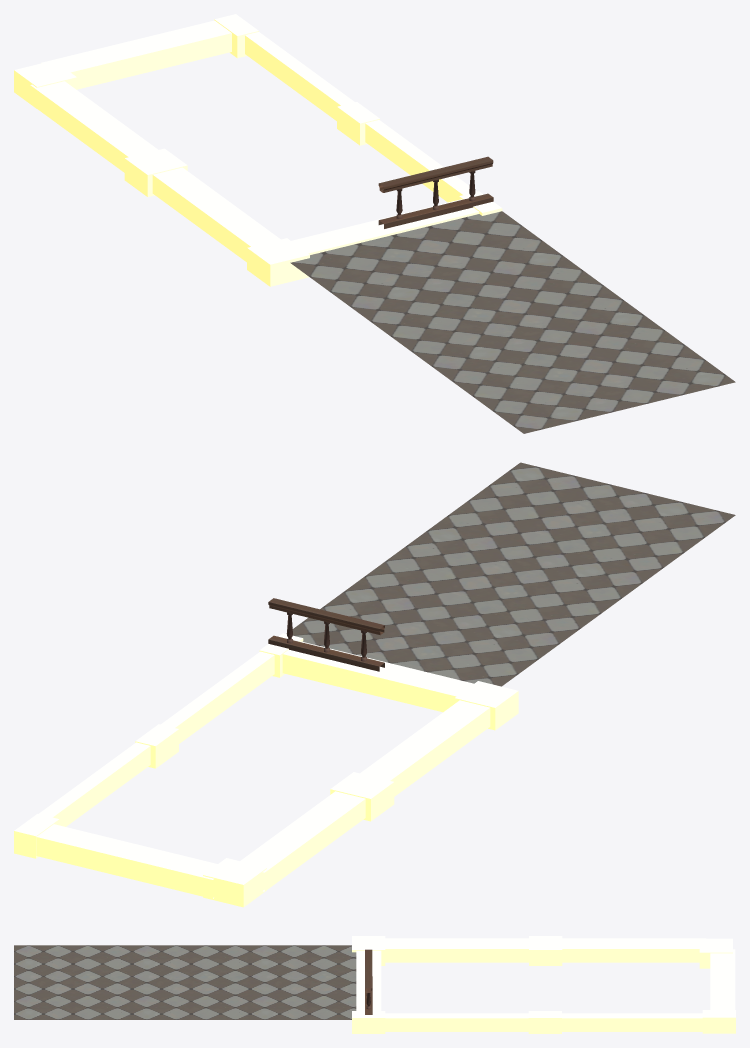
Rendered from Homeworld_Interior_Md_Room_O_Floor_01_Vo.fbx.
The picture shows the model from 3 angles, top to bottom: view 1: azimuth 30°, elevation 25°; view 2: azimuth 150°, elevation 25°; view 3: azimuth 270°, elevation 25°; orthographic projection. The views are drawn at different scales.
Parts seen in each view (by area): view 1: Homeworld_Interior_Md_Room_O_Floor_01_Vo; view 2: Homeworld_Interior_Md_Room_O_Floor_01_Vo; view 3: Homeworld_Interior_Md_Room_O_Floor_01_Vo.
Part boxes in pixels (box(x1,y1,x2,y2)): Homeworld_Interior_Md_Room_O_Floor_01_Vo: box(14, 14, 735, 433); Homeworld_Interior_Md_Room_O_Floor_01_Vo: box(14, 462, 735, 907); Homeworld_Interior_Md_Room_O_Floor_01_Vo: box(14, 936, 735, 1033).
Size of the model in its own units: 5.47 by 1.43 by 20.38.
